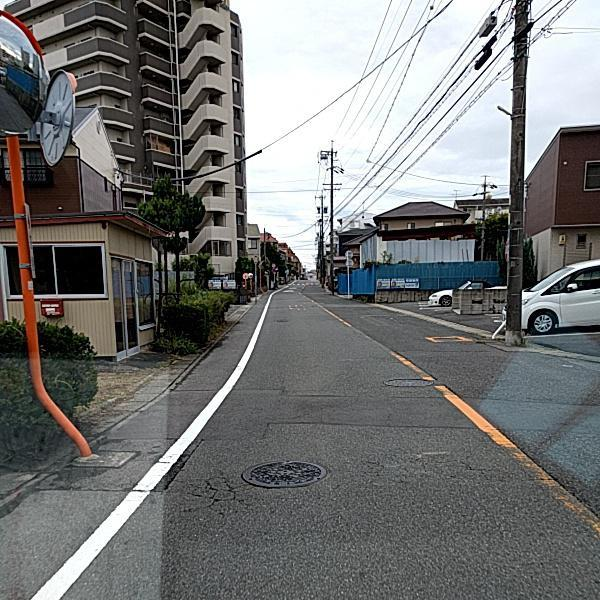D20: (172, 464, 253, 515)
D44: (344, 321, 599, 541)
D50: (244, 460, 330, 484), (380, 375, 434, 386)
